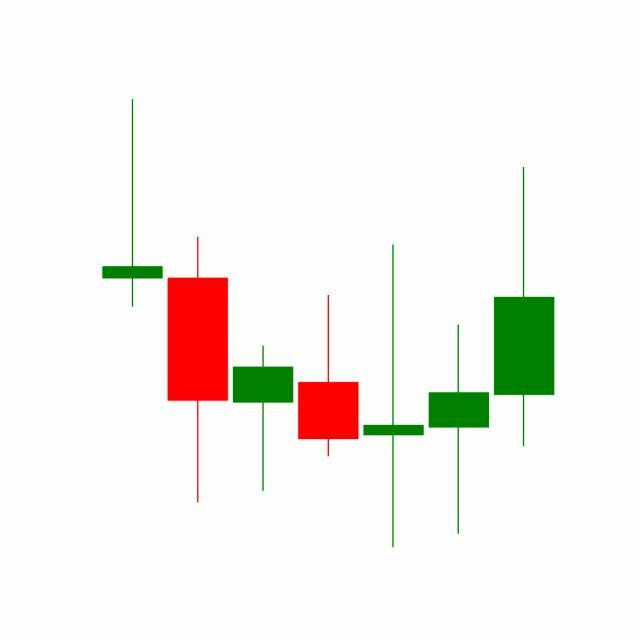Hikkake Pattern: (229, 162, 555, 548)
